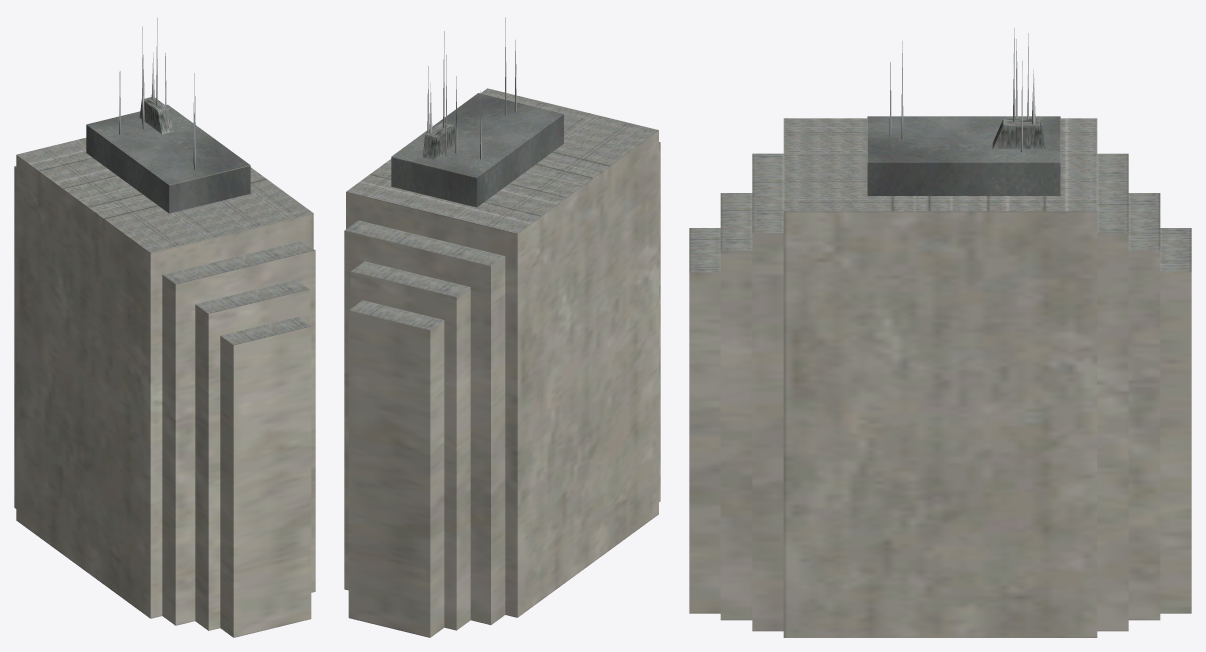
Rendered from thm_corl_imprv_building_s06_r0_mesh_r0_l4.fbx.
3 views of the same model, side by side, from view 1: azimuth 30°, elevation 25°; view 2: azimuth 150°, elevation 25°; view 3: azimuth 270°, elevation 25° (orthographic). The views are drawn at different scales.
Visible parts, largest first — view 1: mesh_node; view 2: mesh_node; view 3: mesh_node.
Boxes of the visible parts, <box> form: mesh_node: <box>14,18,315,637</box>; mesh_node: <box>344,17,660,637</box>; mesh_node: <box>689,28,1191,637</box>.
Bounding box in the file's own units: 42 × 125 × 96.
1 material, 1 textured.
